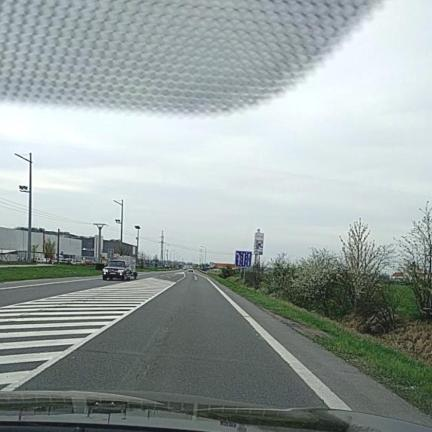Road: (0, 272, 431, 425)
